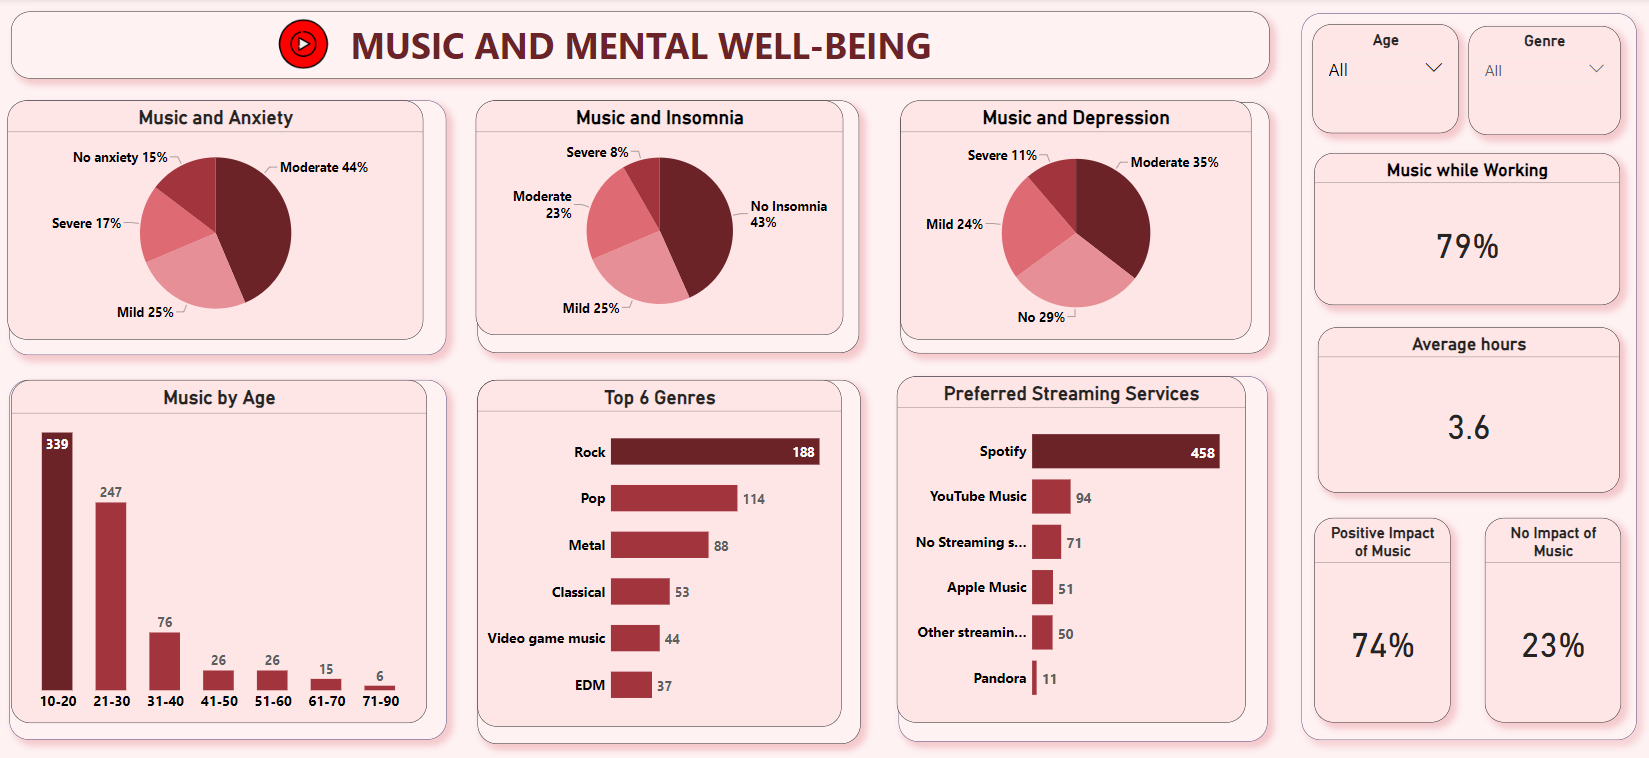

The page's visual inventory and layout, read from the dashboard file:
{"tool":"powerbi","page":{"name":"Dashboard","canvas":[2600,1200],"ordinal":0},"visuals":[{"type":"group","id":"g1","title":"Group 3","box":[25.5,161.9,682.9,398.1],"z":0,"group":"g7"},{"type":"textbox","box":[25.5,161.9,682.9,398.1],"z":0,"group":"g1"},{"type":"group","id":"g2","title":"Group 4","box":[758.6,161.9,596.1,394.6],"z":0,"group":"g8"},{"type":"group","id":"g3","title":"Group 3","box":[758.6,161.9,596.1,394.6],"z":0,"group":"g2"},{"type":"textbox","box":[758.6,161.9,596.1,394.6],"z":0,"group":"g3"},{"type":"group","id":"g4","title":"Group 1","box":[1411.4,593.1,584,568.8],"z":0},{"type":"textbox","box":[24.3,599.2,683,561.9],"z":0,"group":"g6"},{"type":"textbox","box":[757.5,599.2,598.4,568.6],"z":0,"group":"g5"},{"type":"textbox","box":[2044,26.4,523.2,1135.5],"z":1000},{"type":"textbox","box":[1417.4,164.3,576.1,392.3],"z":1000,"group":"g9"},{"type":"textbox","box":[1415.4,594.2,576.1,571],"z":1000,"group":"g4"},{"type":"columnChart","title":"Music by Age ","fields":{"Category":["mxmh_survey_results.Age (groups)"],"Y":["CountNonNull(mxmh_survey_results.Timestamp)"]},"box":[25.8,599.9,649.8,536],"z":1000,"group":"g6"},{"type":"pieChart","title":"Music and Insomnia","fields":{"Category":["mxmh_survey_results.Insomnia (groups)"],"Y":["CountNonNull(mxmh_survey_results.Timestamp)"]},"box":[755.6,162,574.3,366.5],"z":2000,"group":"g8"},{"type":"pieChart","title":"Music and Anxiety","fields":{"Category":["mxmh_survey_results.Anxiety (groups)"],"Y":["CountNonNull(mxmh_survey_results.Timestamp)"]},"box":[23.6,162.7,649.8,373.4],"z":2000,"group":"g7"},{"type":"group","id":"g5","title":"Group 2","box":[757,598,598.9,569.8],"z":2000},{"type":"pieChart","title":"Music and Depression","fields":{"Category":["mxmh_survey_results.Depression (groups)"],"Y":["CountNonNull(mxmh_survey_results.Timestamp)"]},"box":[1417.7,161.2,548,373.7],"z":3000,"group":"g9"},{"type":"barChart","title":"Preferred Streaming Services","fields":{"Y":["CountNonNull(mxmh_survey_results.Timestamp)"],"Category":["mxmh_survey_results.Primary streaming service (groups)"]},"box":[1411.4,593.1,544.9,541],"z":3000,"group":"g4"},{"type":"group","id":"g6","title":"Group 3","box":[24.3,599.2,684.4,559.7],"z":3000},{"type":"card","title":"Music while Working","fields":{"Values":["mxmh_survey_results.working_yes"]},"box":[2065.3,243.3,477.5,237.3],"z":4000},{"type":"card","title":"Average hours","fields":{"Values":["Avg(mxmh_survey_results.Hours per day)"]},"box":[2071.4,517.1,471.5,258.5],"z":5000},{"type":"group","id":"g7","title":"Group 4","box":[23.6,161.9,684.8,398.1],"z":6000},{"type":"barChart","title":"Top 6 Genres","fields":{"Category":["mxmh_survey_results.Fav genre"],"Y":["CountNonNull(mxmh_survey_results.Timestamp)"]},"box":[757,598,568.8,541.8],"z":6000,"group":"g5"},{"type":"group","id":"g8","title":"Group 5","box":[755.6,161.9,600.5,394.7],"z":7000},{"type":"card","title":"Positive Impact of Music","fields":{"Values":["mxmh_survey_results.Music_effect_improve"]},"box":[2065.3,815.2,212.9,319.4],"z":8000},{"type":"group","id":"g9","title":"Group 6","box":[1417.4,161.2,577.9,395.4],"z":9000},{"type":"slicer","title":"Age","fields":{"Values":["mxmh_survey_results.Age (groups)"]},"box":[2062.3,42.6,228.1,170.3],"z":10000},{"type":"card","title":"No Impact of Music","fields":{"Values":["mxmh_survey_results.Music_effect_no_effect"]},"box":[2329.9,815.2,212.9,319.4],"z":11000},{"type":"slicer","title":"Genre","fields":{"Values":["mxmh_survey_results.Fav genre"]},"box":[2305.6,45.6,237.3,170.3],"z":12000},{"type":"textbox","box":[27,23.6,1966.7,104.6],"z":13000},{"type":"image","box":[438.5,13.5,91.1,118.1],"z":14000}]}

Visuals, with their boxes in screenshot pixels (x1, y1, x2, y2), scaled from the page's 2600x1200 canvas onto the 1649x758 screenshot:
"Group 3" group: (16, 102, 449, 354)
textbox: (16, 102, 449, 354)
"Group 4" group: (481, 102, 859, 352)
"Group 3" group: (481, 102, 859, 352)
textbox: (481, 102, 859, 352)
"Group 1" group: (895, 375, 1266, 734)
textbox: (15, 378, 449, 733)
textbox: (480, 378, 860, 738)
textbox: (1296, 17, 1628, 734)
textbox: (899, 104, 1264, 352)
textbox: (898, 375, 1263, 736)
"Music by Age " columnChart: (16, 379, 428, 718)
"Music and Insomnia" pieChart: (479, 102, 843, 334)
"Music and Anxiety" pieChart: (15, 103, 427, 339)
"Group 2" group: (480, 378, 860, 738)
"Music and Depression" pieChart: (899, 102, 1247, 338)
"Preferred Streaming Services" barChart: (895, 375, 1241, 716)
"Group 3" group: (15, 378, 449, 732)
"Music while Working" card: (1310, 154, 1613, 304)
"Average hours" card: (1314, 327, 1613, 490)
"Group 4" group: (15, 102, 449, 354)
"Top 6 Genres" barChart: (480, 378, 841, 720)
"Group 5" group: (479, 102, 860, 352)
"Positive Impact of Music" card: (1310, 515, 1445, 717)
"Group 6" group: (899, 102, 1265, 352)
"Age" slicer: (1308, 27, 1453, 134)
"No Impact of Music" card: (1478, 515, 1613, 717)
"Genre" slicer: (1462, 29, 1613, 136)
textbox: (17, 15, 1264, 81)
image: (278, 9, 336, 83)
